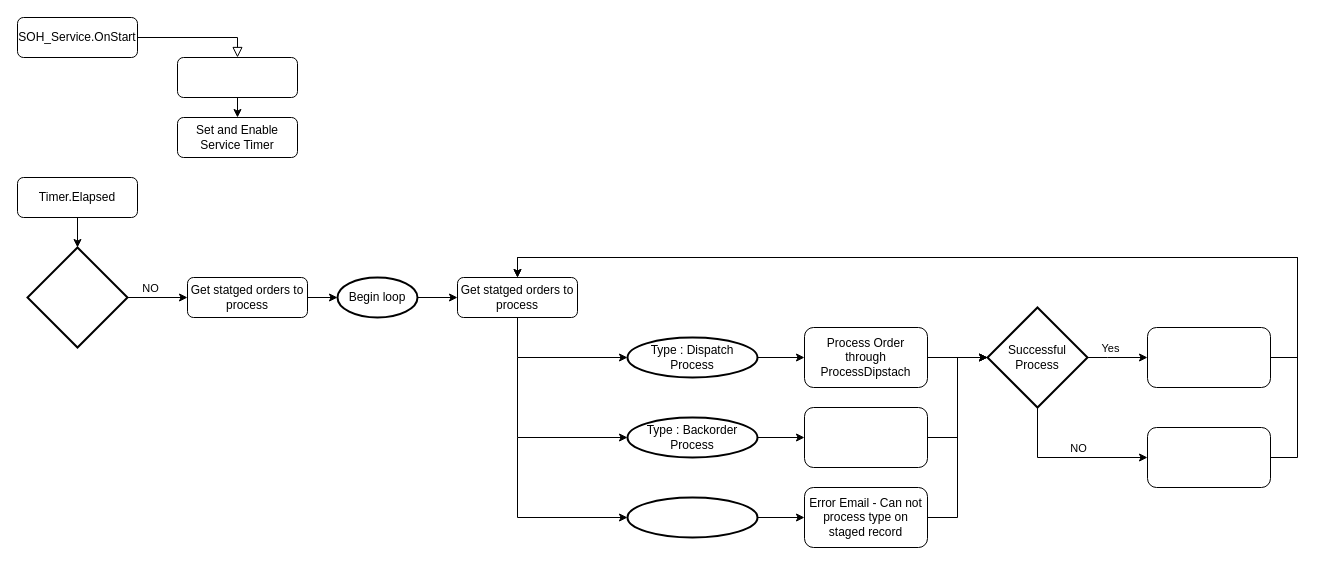
Image size: 1323x565. Some labels were removed from this diagram. Each missing label, with the centre of its shape:
"Get Application Settings" belongs at (x=237, y=77).
"Is Syspro in Blackout" belongs at (x=77, y=297).
"Process Order through ProcessBackOrder" belongs at (x=866, y=437).
"Type : Unsupported" belongs at (x=692, y=517).
"Update Staged Record as Failure" belongs at (x=1208, y=457).
"Update Staged Record as Processed" belongs at (x=1208, y=357).
